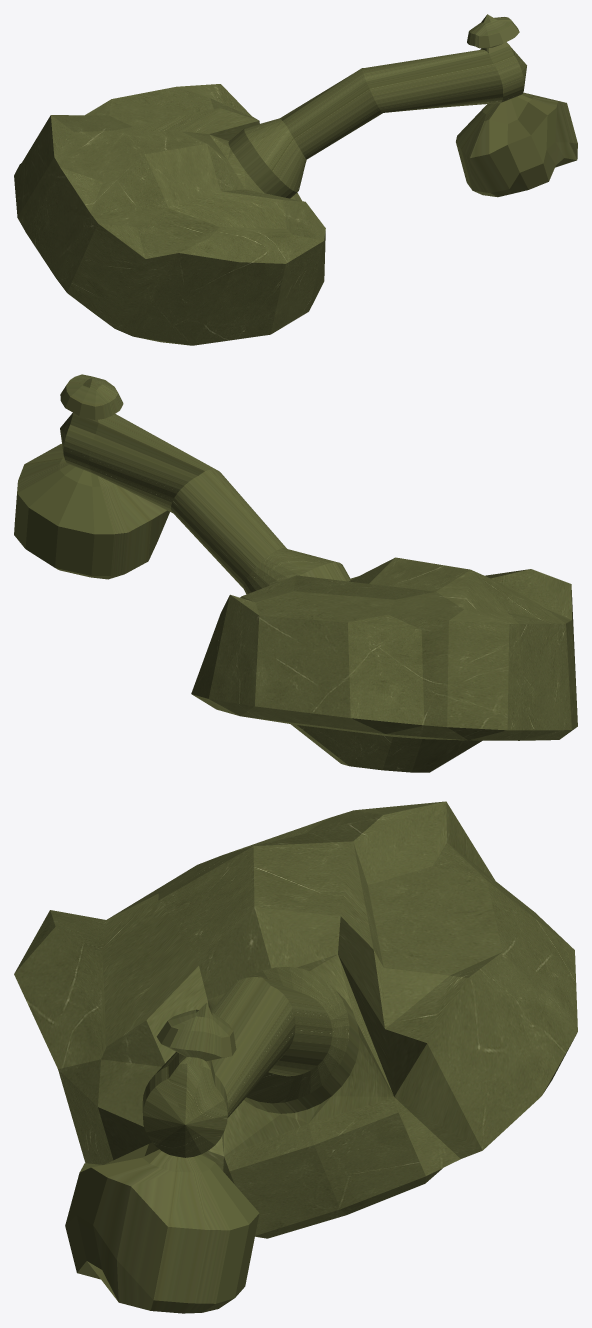
The model's file is HammerDamaged1.fbx.
3 views of the same model, one above another, from view 1: azimuth 30°, elevation 25°; view 2: azimuth 150°, elevation 25°; view 3: azimuth 270°, elevation 25° (orthographic). The views are drawn at different scales.
Visible parts, largest first — view 1: HammerDamaged; view 2: HammerDamaged; view 3: HammerDamaged.
Part boxes in pixels (x1,y1,x2,y2): HammerDamaged: (14,14,577,345); HammerDamaged: (14,374,577,772); HammerDamaged: (14,801,577,1313).
Size of the model in its own units: 970 by 786 by 1661.
